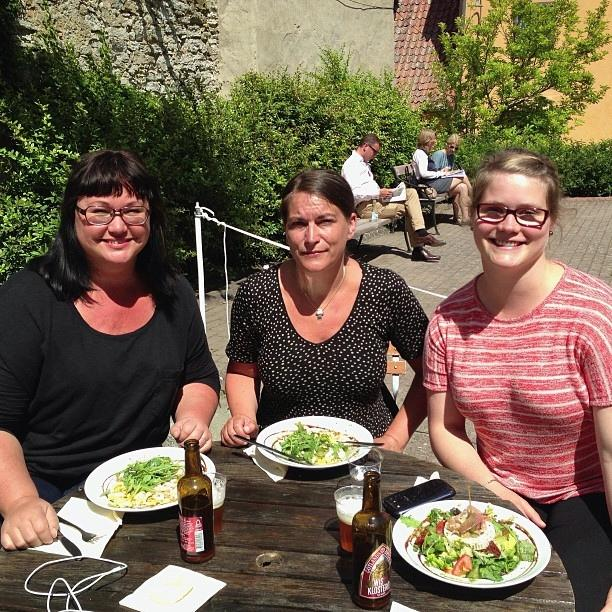tomato: (451, 554, 472, 576), (436, 520, 447, 534), (415, 536, 426, 544), (442, 569, 453, 574), (421, 530, 429, 536), (502, 530, 509, 536)
